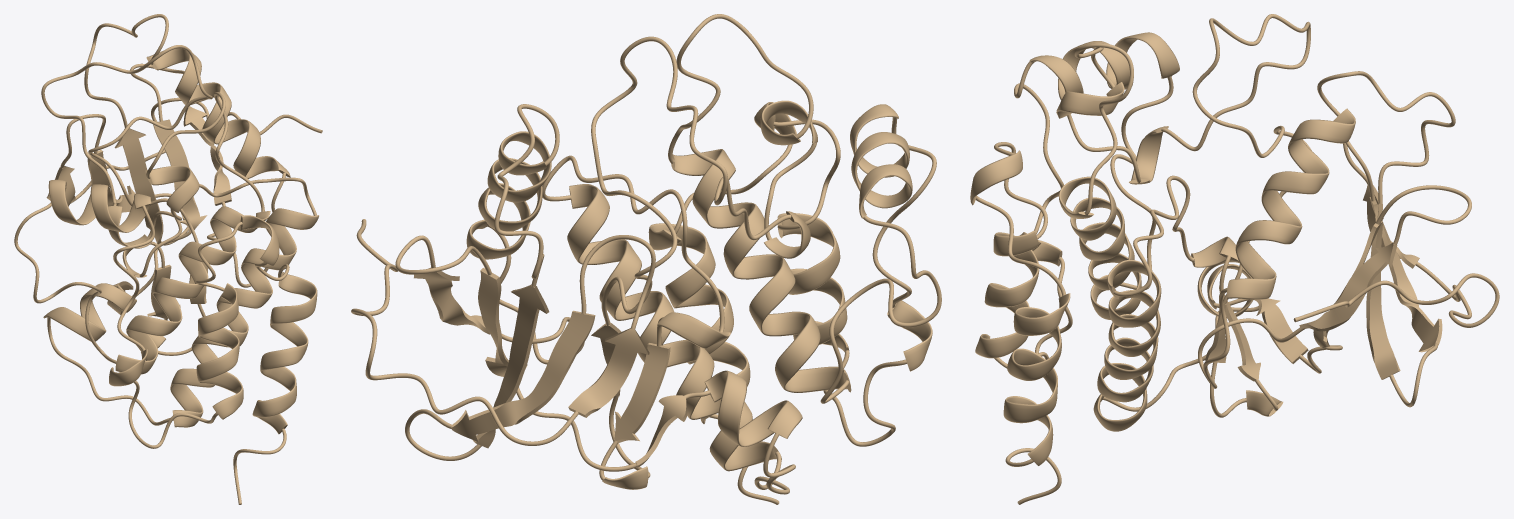
File: 1uwh_unbound.glb
3 views of the same model, side by side, from view 1: azimuth 30°, elevation 25°; view 2: azimuth 150°, elevation 25°; view 3: azimuth 270°, elevation 25° (orthographic). The views are drawn at different scales.
Parts seen in each view (by area): view 1: ribbons; view 2: ribbons; view 3: ribbons.
Part boxes in pixels (box(x1,y1,x2,y2)): ribbons: box(14, 14, 322, 504); ribbons: box(351, 14, 941, 504); ribbons: box(970, 14, 1499, 504).
Bounding box in the file's own units: 48.26 × 51.36 × 50.12.
